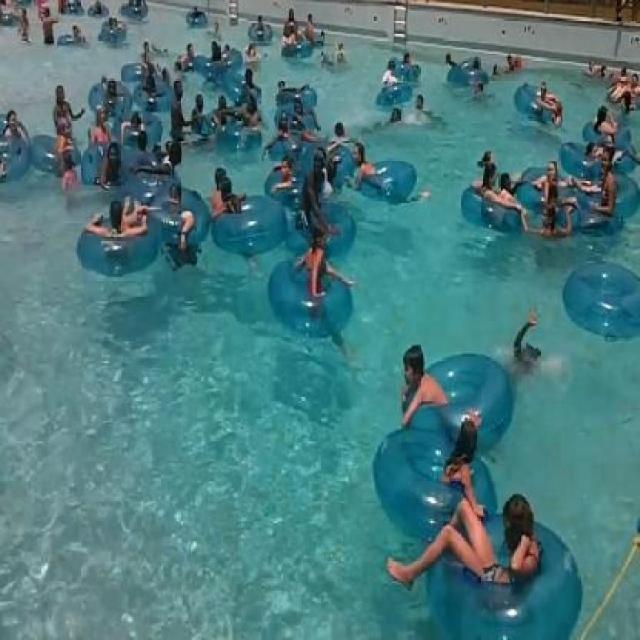drowning: (511, 297, 551, 388), (53, 139, 84, 213), (411, 89, 432, 129), (336, 33, 352, 84), (510, 41, 532, 77), (388, 98, 408, 136), (245, 41, 263, 70)
